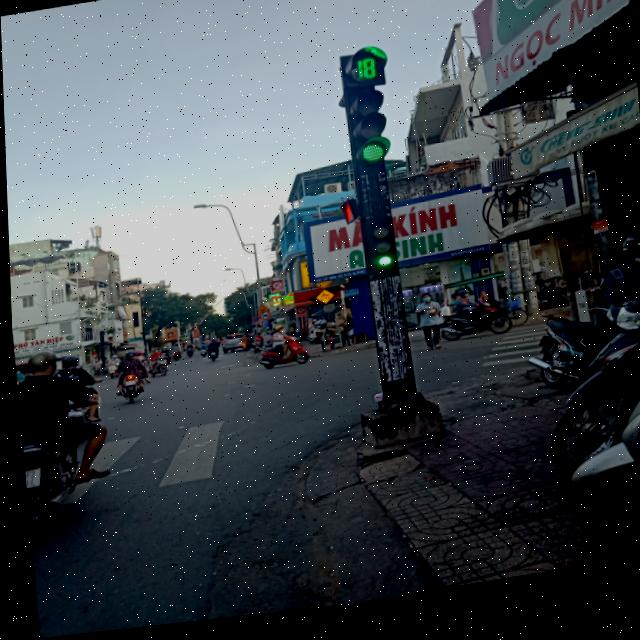Green: (344, 90, 393, 176), (355, 223, 401, 292)
